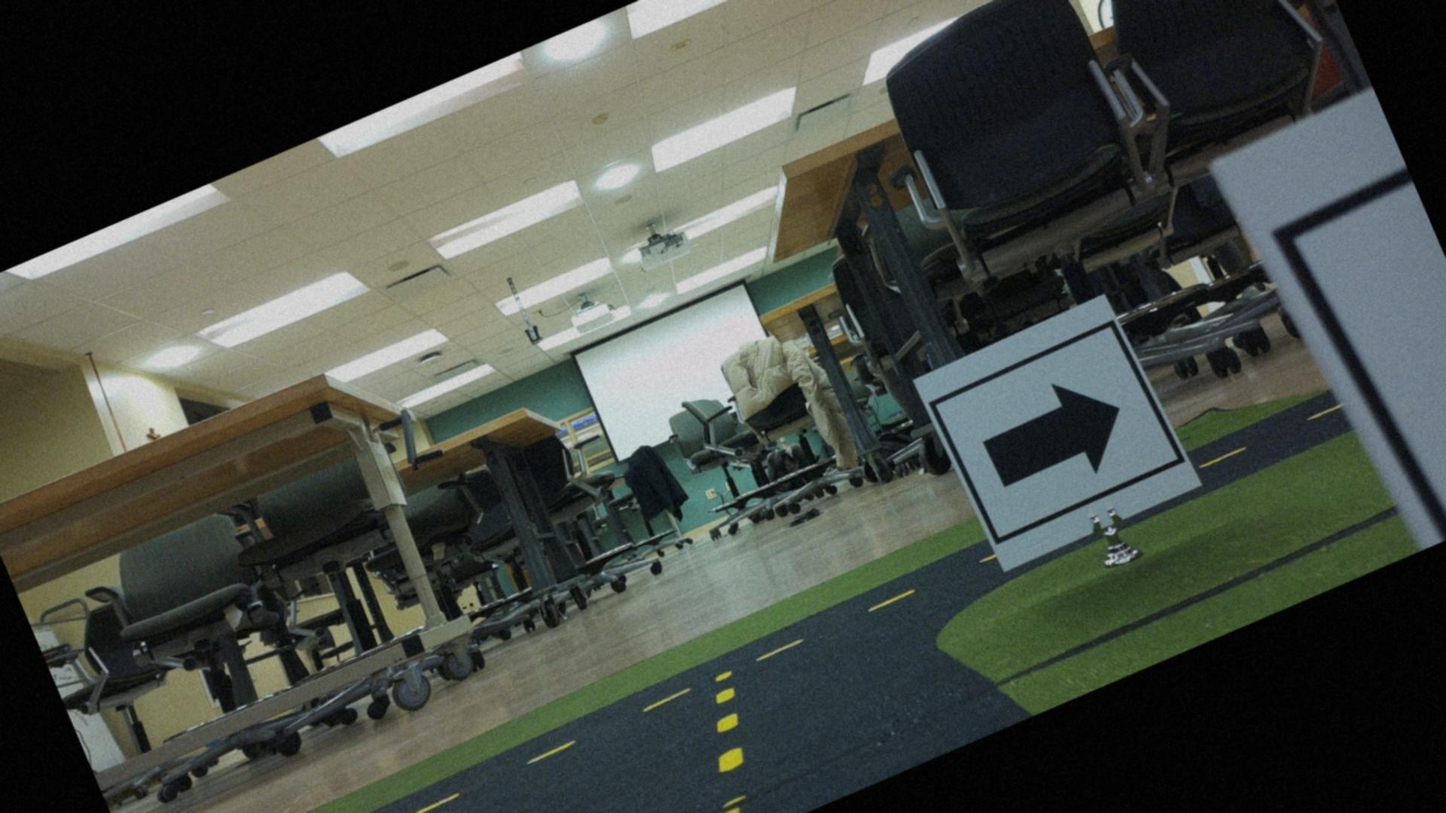turnleft: (924, 297, 1191, 571)
yellowline: (152, 588, 919, 812), (694, 689, 761, 775)
